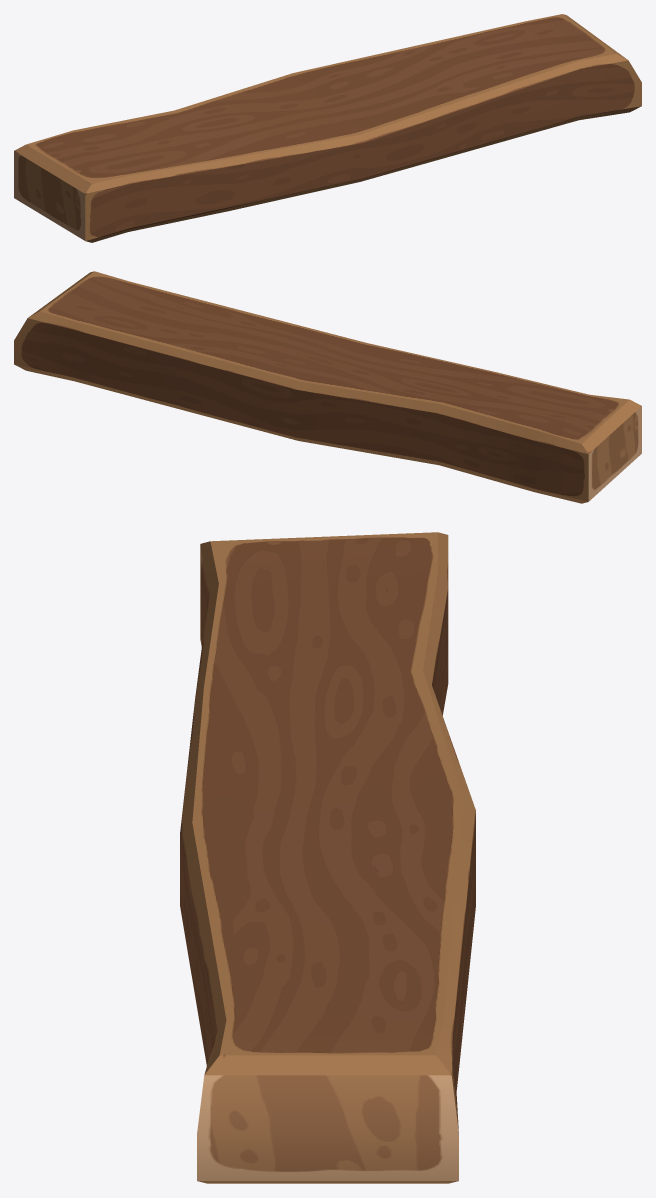
The model's file is Tablon2.fbx.
3 views of the same model, one above another, from view 1: azimuth 30°, elevation 25°; view 2: azimuth 150°, elevation 25°; view 3: azimuth 270°, elevation 25° (orthographic). The views are drawn at different scales.
Parts seen in each view (by area): view 1: Tablon2; view 2: Tablon2; view 3: Tablon2.
Part boxes in pixels (x1=…): Tablon2: x1=14, y1=14, x2=641, y2=242; Tablon2: x1=14, y1=271, x2=641, y2=503; Tablon2: x1=180, y1=532, x2=475, y2=1183.
Bounding box in the file's own units: 1.92 × 0.2001 × 0.4357.
